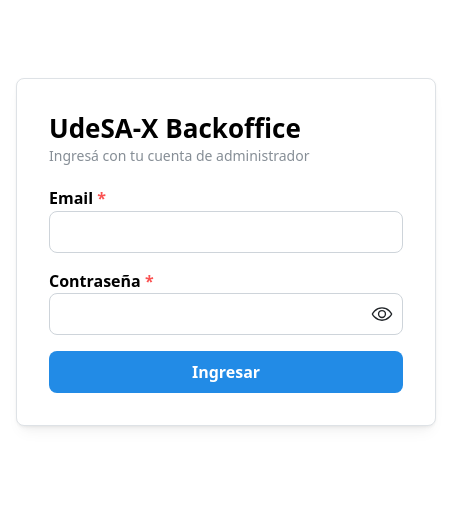
Test case: LoginPage › shows the lockout message with its wait time
This screenshot has width=453, height=508.
Expected: the button "Ingresar" is shown, x1=49 y1=352 x2=403 y2=394
Type "admin@udesa.edu.ar" into the field labelled "Email *" at (226, 232), box x1=49 y1=211 x2=403 y2=253
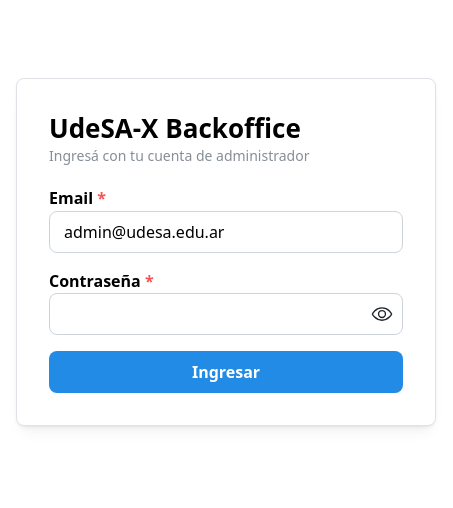
Type "Admin1234" into the password field labelled "Contraseña *" at (226, 314), box x1=50 y1=294 x2=402 y2=334
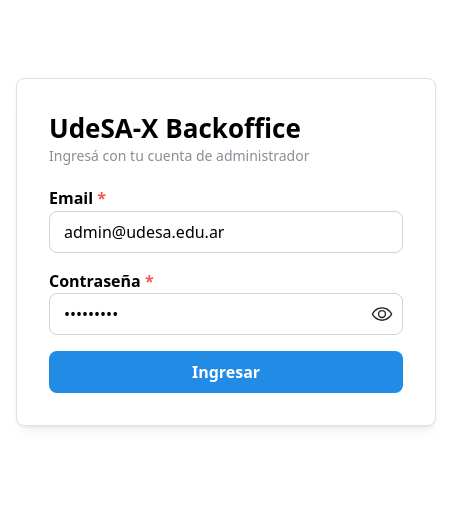
Click the button "Ingresar" at (226, 372), box x1=49 y1=352 x2=403 y2=394
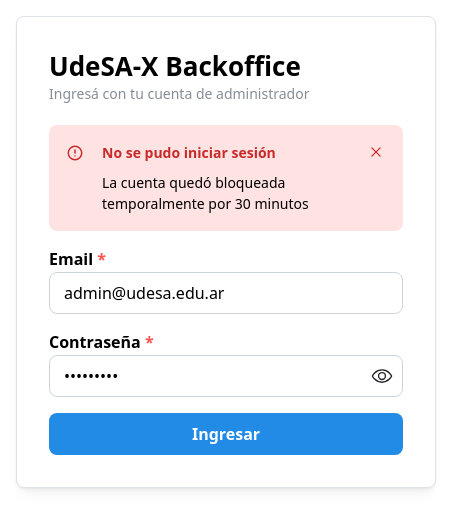
Now the message shows "30 minutos", box x1=102 y1=173 x2=309 y2=213
